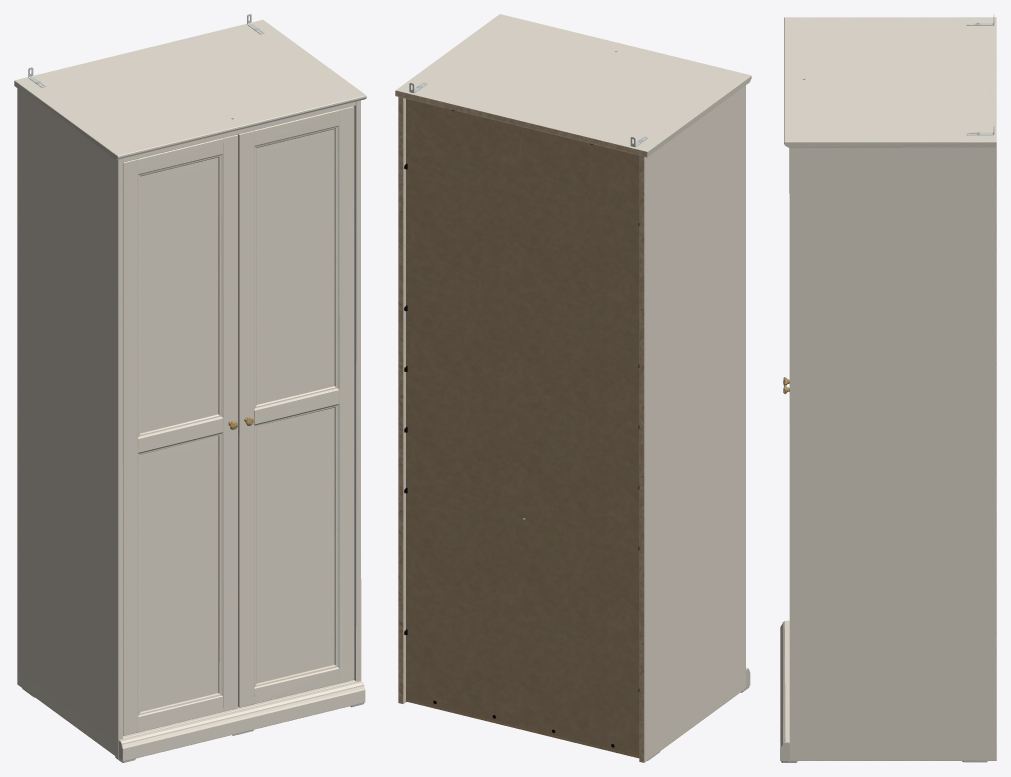
3 views of the same model, side by side, from view 1: azimuth 30°, elevation 25°; view 2: azimuth 150°, elevation 25°; view 3: azimuth 270°, elevation 25° (orthographic). The views are drawn at different scales.
Parts seen in each view (by area): view 1: 01bf0725-cc57-4f6f-831f-2f3489385de2; view 2: 01bf0725-cc57-4f6f-831f-2f3489385de2; view 3: 01bf0725-cc57-4f6f-831f-2f3489385de2.
Boxes of the visible parts, x1,y1,x2,y2 form: 01bf0725-cc57-4f6f-831f-2f3489385de2: (14, 14, 366, 762); 01bf0725-cc57-4f6f-831f-2f3489385de2: (395, 14, 751, 762); 01bf0725-cc57-4f6f-831f-2f3489385de2: (780, 14, 996, 762).
Size of the model in its own units: 0.82 by 1.94 by 0.6.
Materials: 1 (1 with a texture image).
